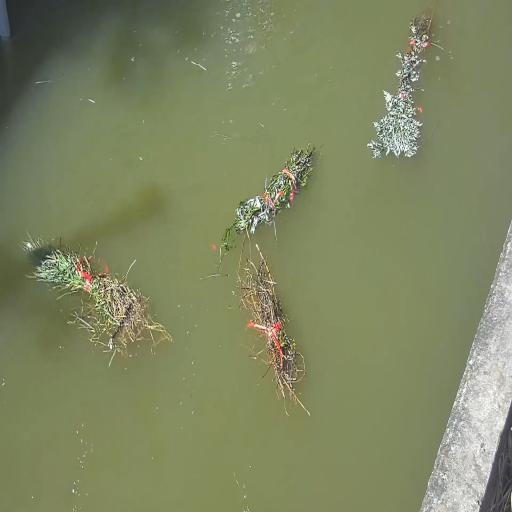twig: (19, 232, 173, 368), (239, 244, 310, 415), (367, 8, 437, 158), (221, 145, 314, 250)
